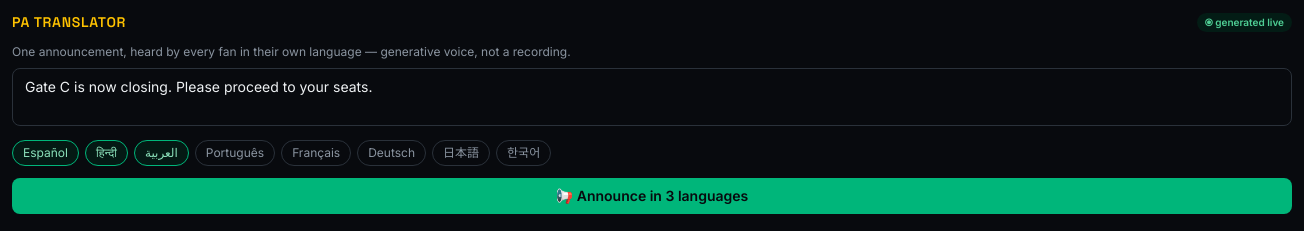
Scenario: PaTranslatorPanel › toggles target languages and disables announcement when none are selected
Click the button "Español".
click(46, 153)  # box [12,140,79,166]
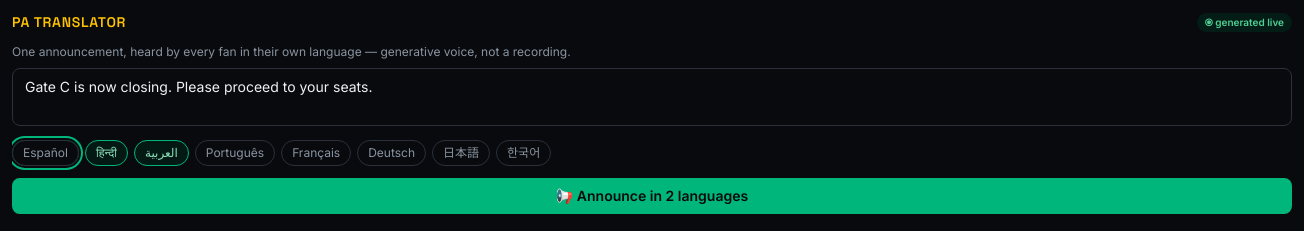
Click the button "हिन्दी".
click(107, 153)  # box [85,140,128,166]
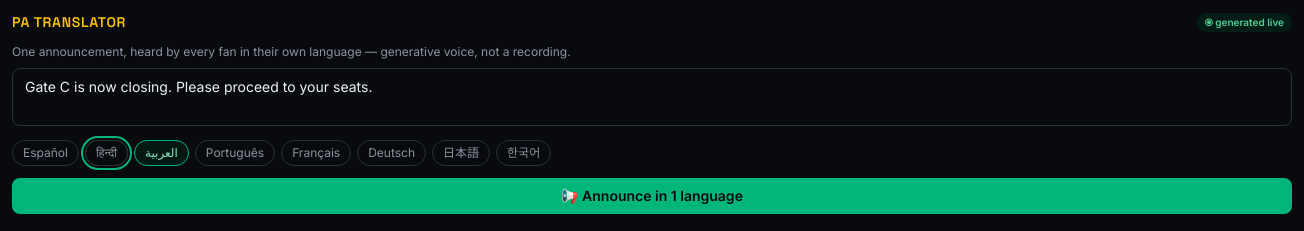
Click the button "العربية".
click(161, 153)  # box [134,140,189,166]
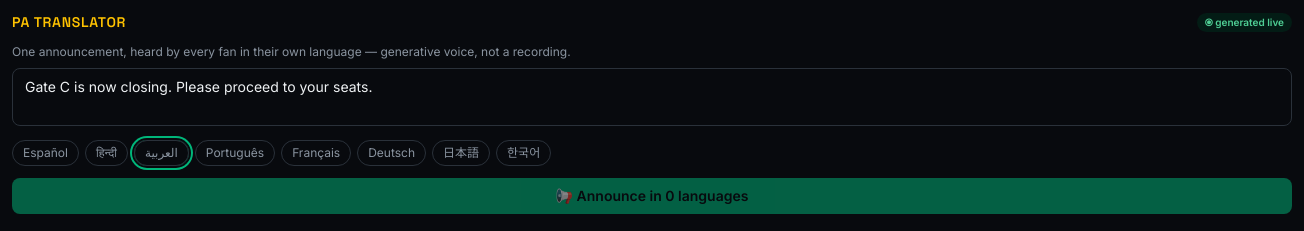
Now the button "📢 Announce in 0 languages" is disabled, box [12,178,1292,214]
Click the button "Português".
click(235, 153)  # box [195,140,275,166]
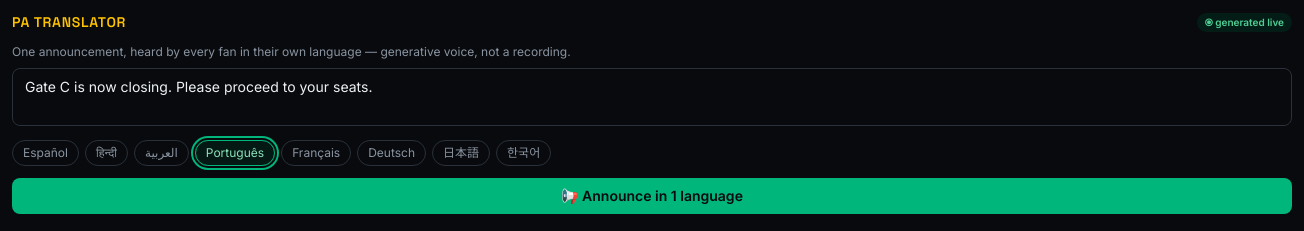
Now the button "📢 Announce in 1 language" is enabled, box [12,178,1292,214]
